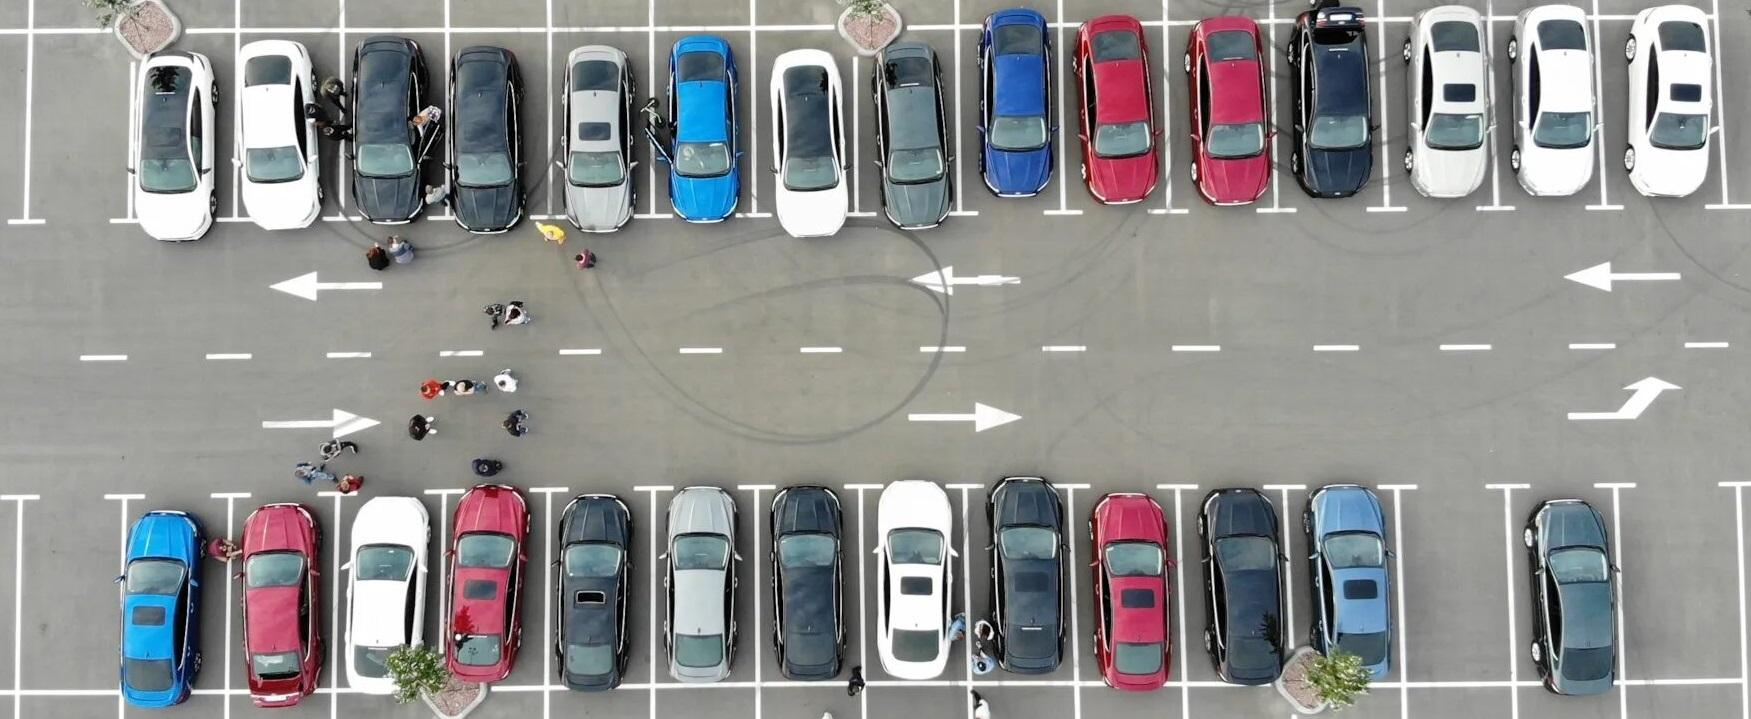occupied: (1597, 17, 1725, 208), (1285, 487, 1405, 686), (1178, 487, 1293, 684), (1508, 486, 1623, 683), (1071, 486, 1185, 684), (1381, 18, 1498, 209), (966, 486, 1077, 684), (227, 495, 338, 691), (1490, 17, 1604, 209), (335, 491, 444, 691), (440, 490, 549, 690), (1273, 19, 1387, 210), (861, 487, 970, 684), (122, 496, 230, 693), (546, 489, 654, 687), (757, 487, 864, 686), (1166, 21, 1276, 211), (652, 488, 757, 687), (130, 30, 237, 221), (1061, 23, 1168, 212), (236, 30, 342, 220), (958, 25, 1063, 213), (342, 30, 447, 218), (855, 28, 959, 214), (447, 30, 549, 218), (754, 28, 857, 215), (652, 29, 754, 217), (551, 29, 652, 215)
vacant: (1617, 485, 1745, 682), (1398, 487, 1514, 684), (18, 497, 125, 693), (26, 30, 134, 221)
